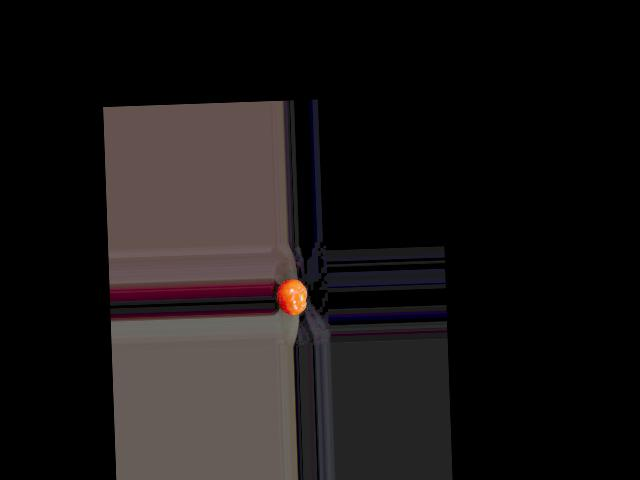tomato: (275, 278, 307, 315)
